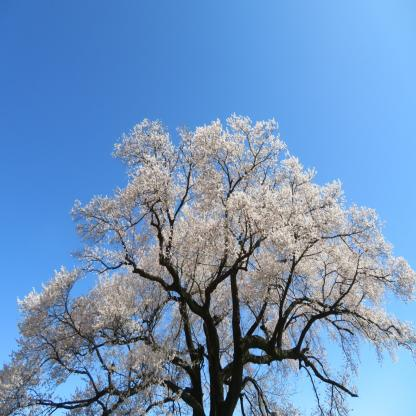EdohiganSakura: (0, 112, 416, 416)
